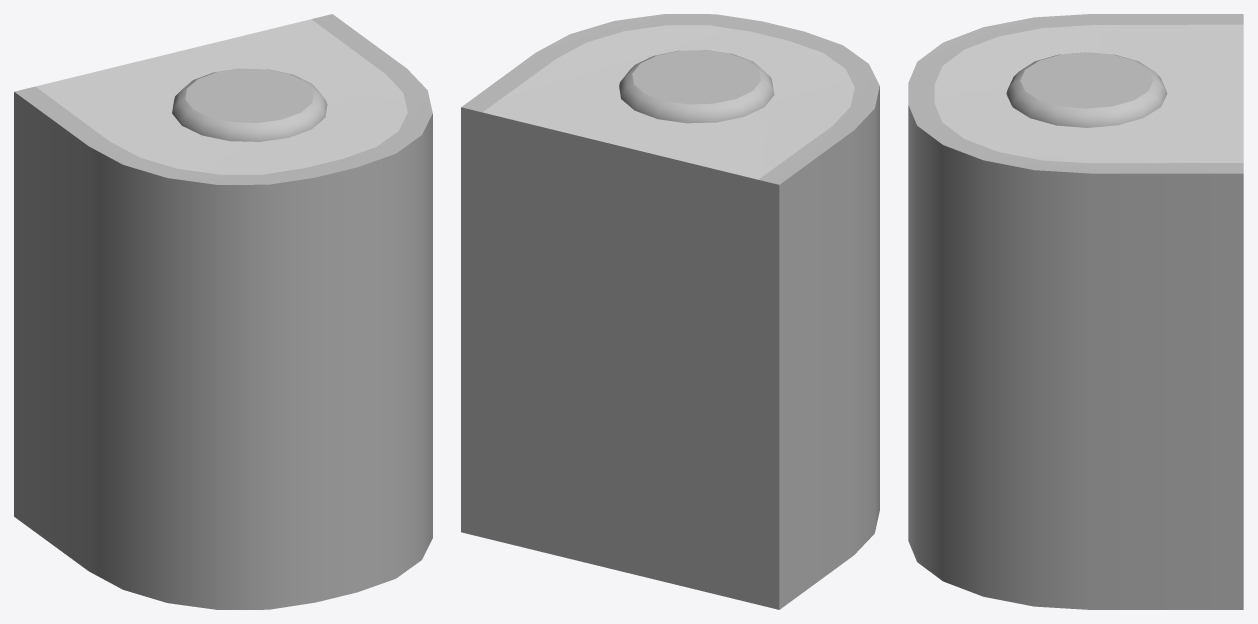
The model's file is start_platform.fbx.
The picture shows the model from 3 angles, left to right: view 1: azimuth 30°, elevation 25°; view 2: azimuth 150°, elevation 25°; view 3: azimuth 270°, elevation 25°; orthographic projection. The views are drawn at different scales.
Parts seen in each view (by area): view 1: Starting_platform; view 2: Starting_platform; view 3: Starting_platform.
Part boxes in pixels (<box>): Starting_platform: <box>14,14,432,609</box>; Starting_platform: <box>461,14,879,609</box>; Starting_platform: <box>908,14,1243,609</box>.
Bounding box in the file's own units: 2.43 × 2.16 × 3.19.
